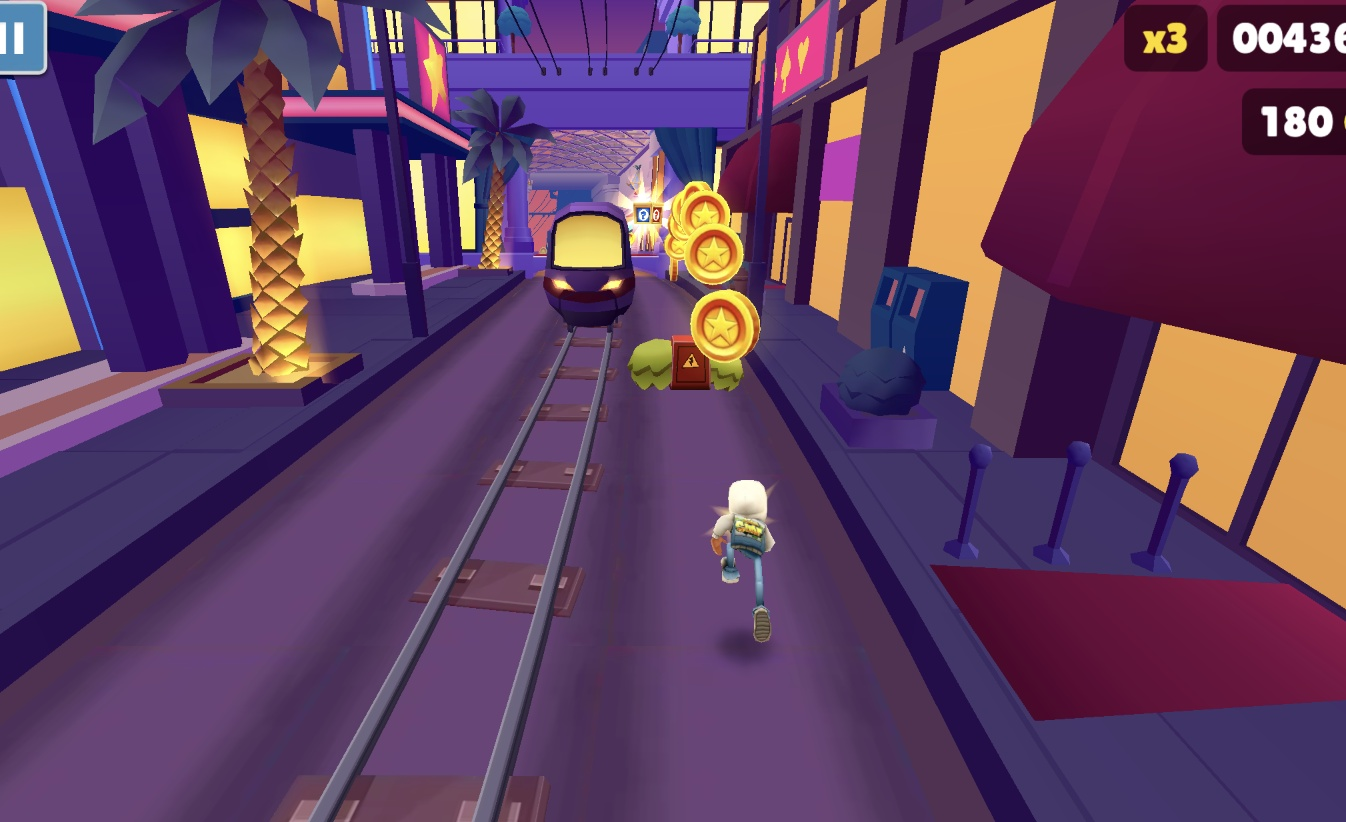bush: (626, 339, 746, 391)
small_obstacle: (670, 335, 713, 391)
train: (544, 197, 636, 330)
